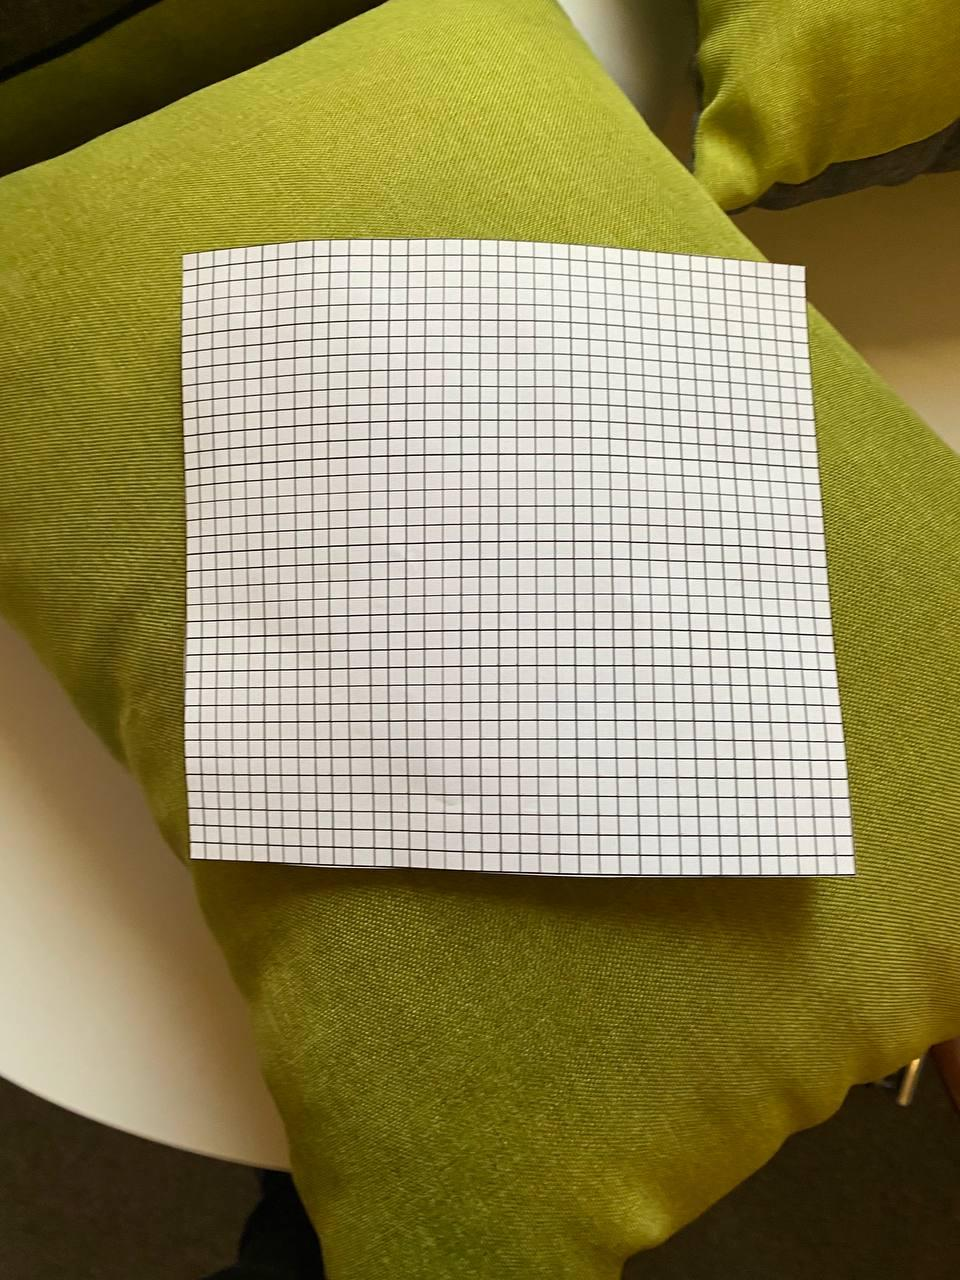grid: (159, 237, 878, 894)
